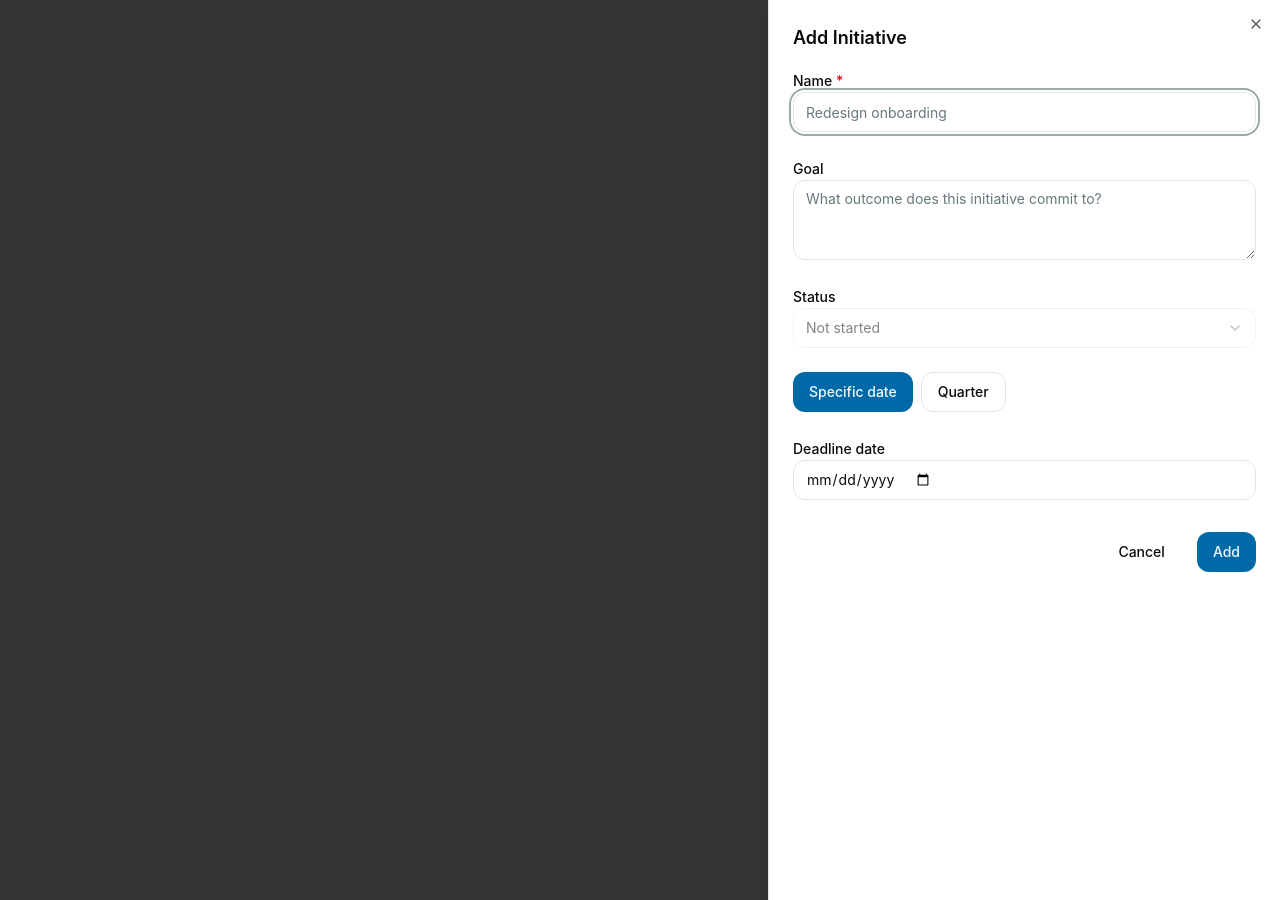
it: InitiativeSheet › requires a name before submitting
Click the button "Add". click: (1226, 552)
box: [1197,532,1256,572]
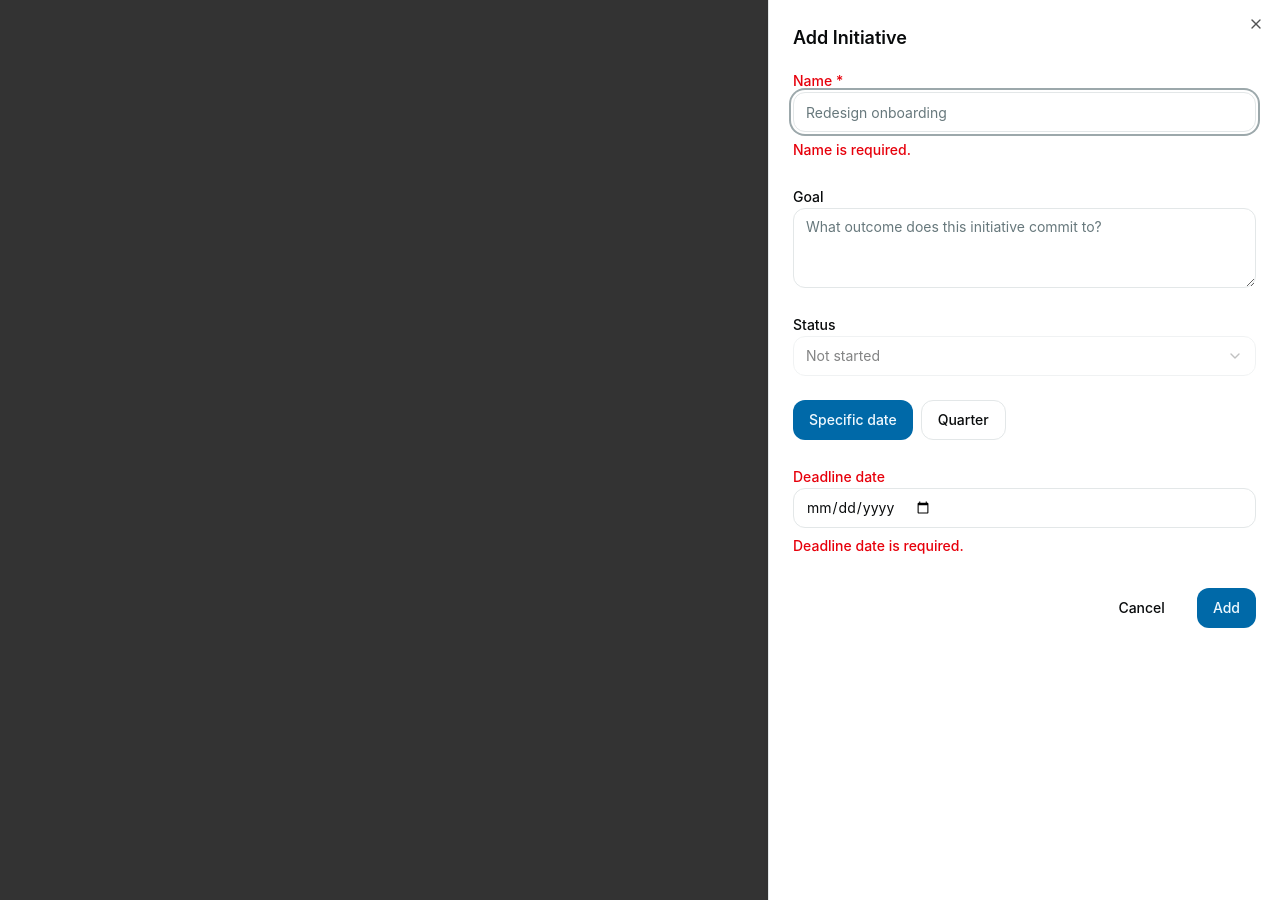
expect the text "Name is required." is shown: met, box [793,141,911,158]
